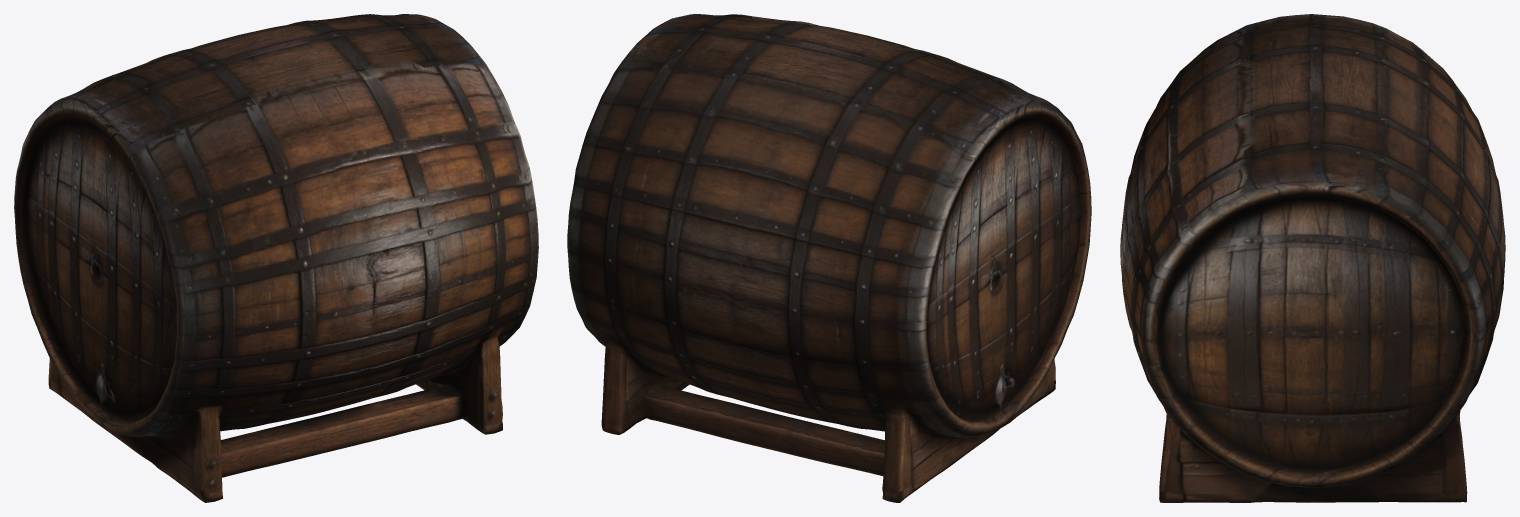
File: barrel.glb
3 renders of one model, left to right at view 1: azimuth 30°, elevation 25°; view 2: azimuth 150°, elevation 25°; view 3: azimuth 270°, elevation 25°, orthographic.
Size of the model in its own units: 2 by 1.92 by 1.88.
Materials: 1 (1 with a texture image).
